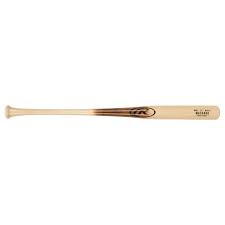bat: (4, 103, 222, 122)
